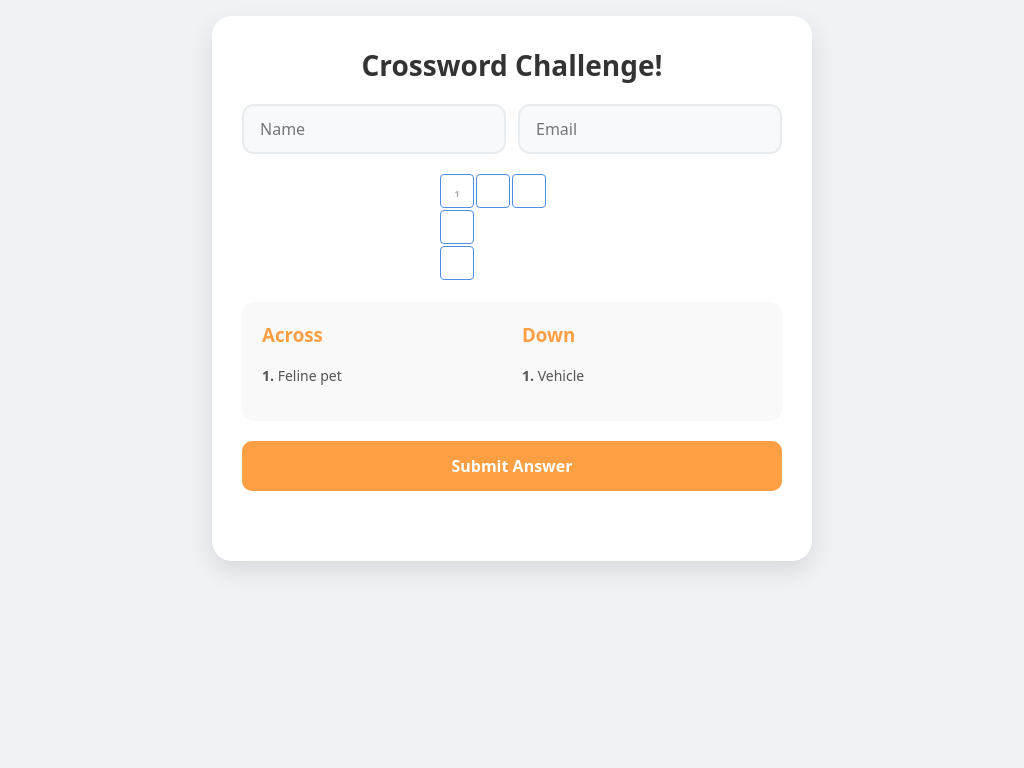
Test: CrosswordPuzzle › shows error toast for invalid email
Expected: the button with class "submit-btn" is shown, left=242, top=441, right=782, bottom=491
Type "Test" into the field with placeholder "Name" at (374, 129), box left=242, top=104, right=506, bottom=154
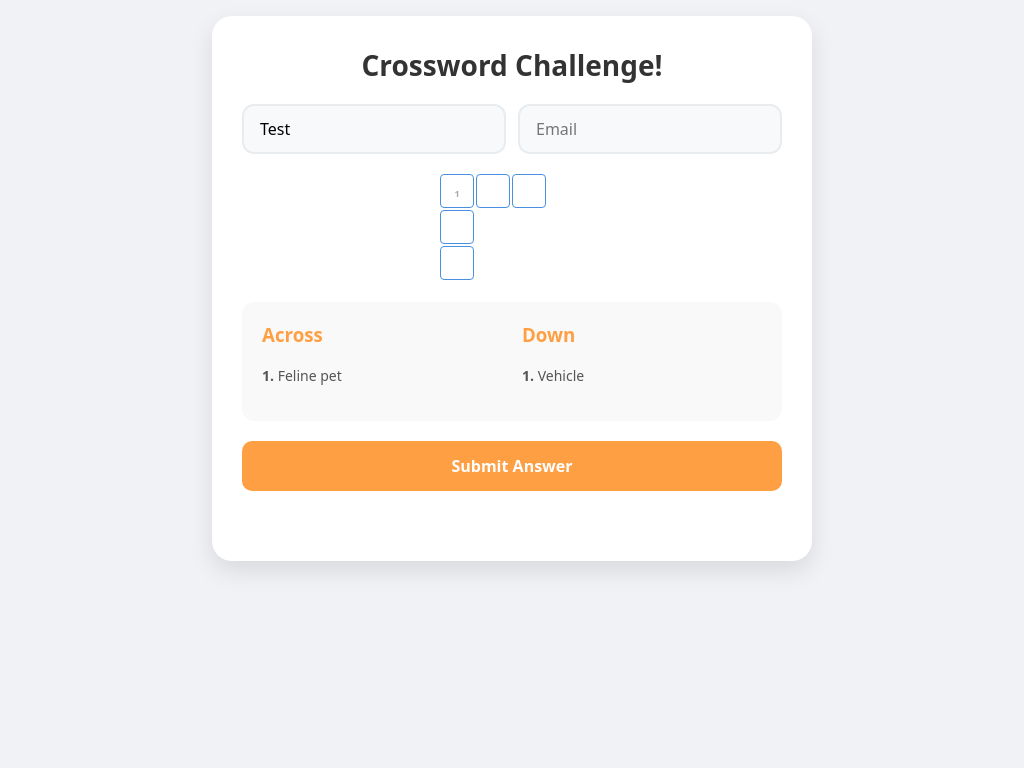
Type "bad-email" into the field with placeholder "Email" at (650, 129), box left=518, top=104, right=782, bottom=154
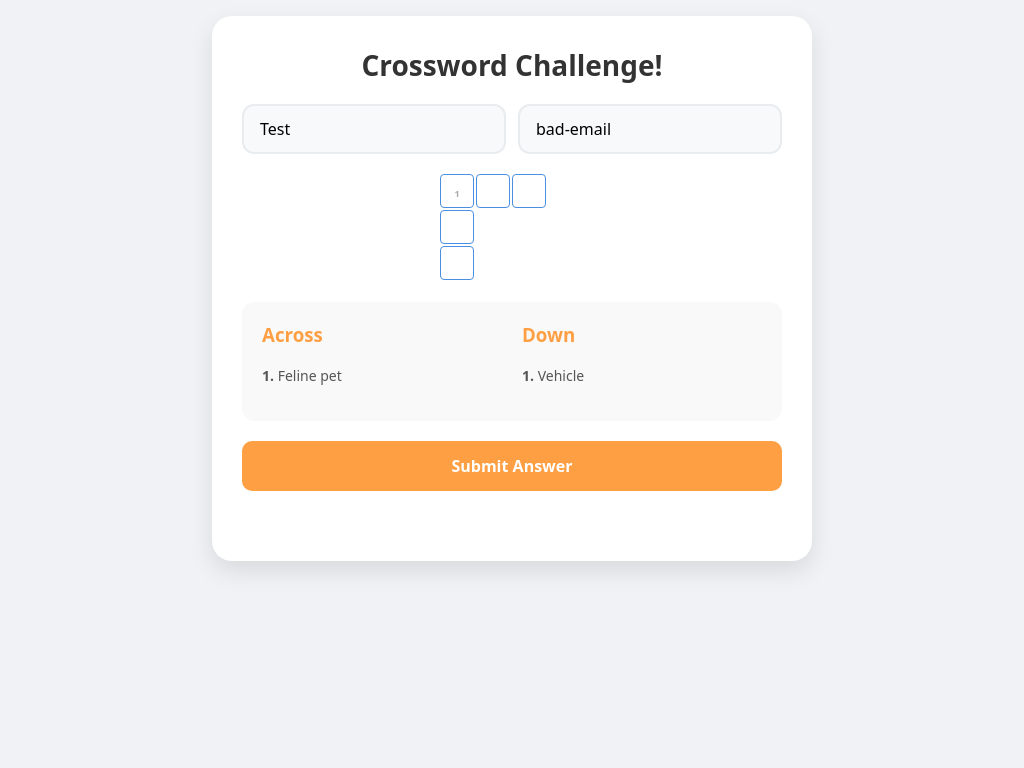
Click the button with class "submit-btn" at (512, 466), box left=242, top=441, right=782, bottom=491
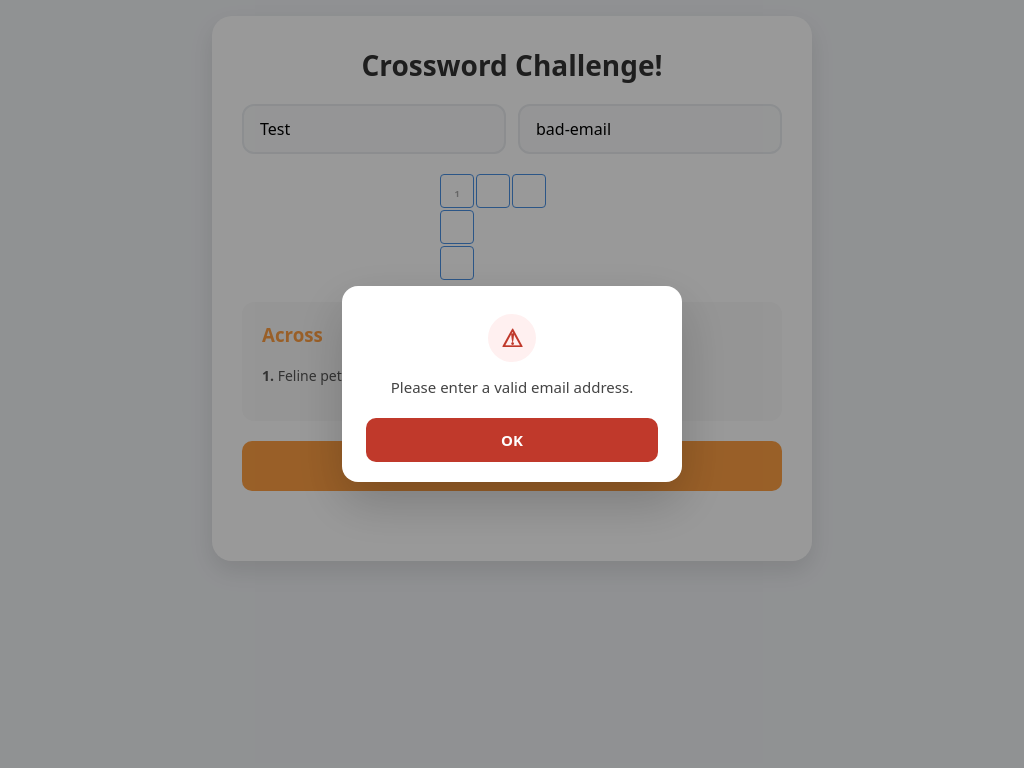
Expected: the text "Please enter a valid email address" is shown, left=391, top=377, right=633, bottom=397
